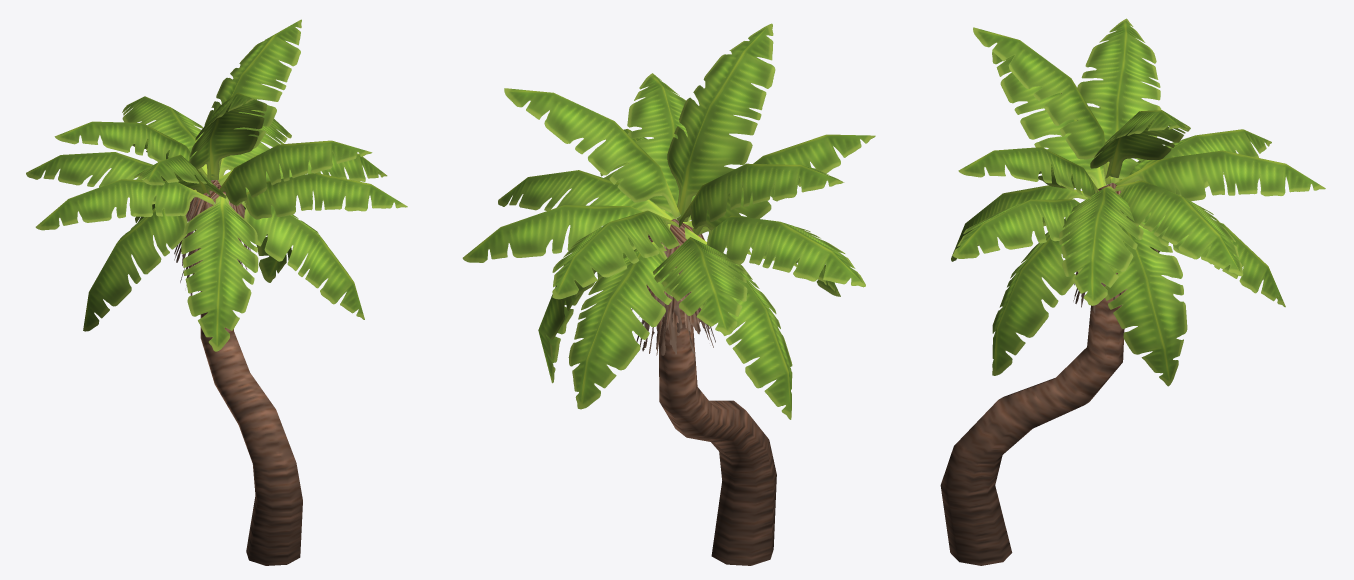
File: Ctn_PalmTree_01_v02.FBX
3 renders of one model, left to right at view 1: azimuth 30°, elevation 25°; view 2: azimuth 150°, elevation 25°; view 3: azimuth 270°, elevation 25°, orthographic. The views are drawn at different scales.
Parts seen in each view (by area): view 1: Ctn_PalmTree_01_v02; view 2: Ctn_PalmTree_01_v02; view 3: Ctn_PalmTree_01_v02.
Part boxes in pixels (bbox=[...]): Ctn_PalmTree_01_v02: bbox=[26, 19, 407, 565]; Ctn_PalmTree_01_v02: bbox=[462, 23, 875, 565]; Ctn_PalmTree_01_v02: bbox=[940, 18, 1325, 565].
Bounding box in the file's own units: 207 × 260 × 190.
